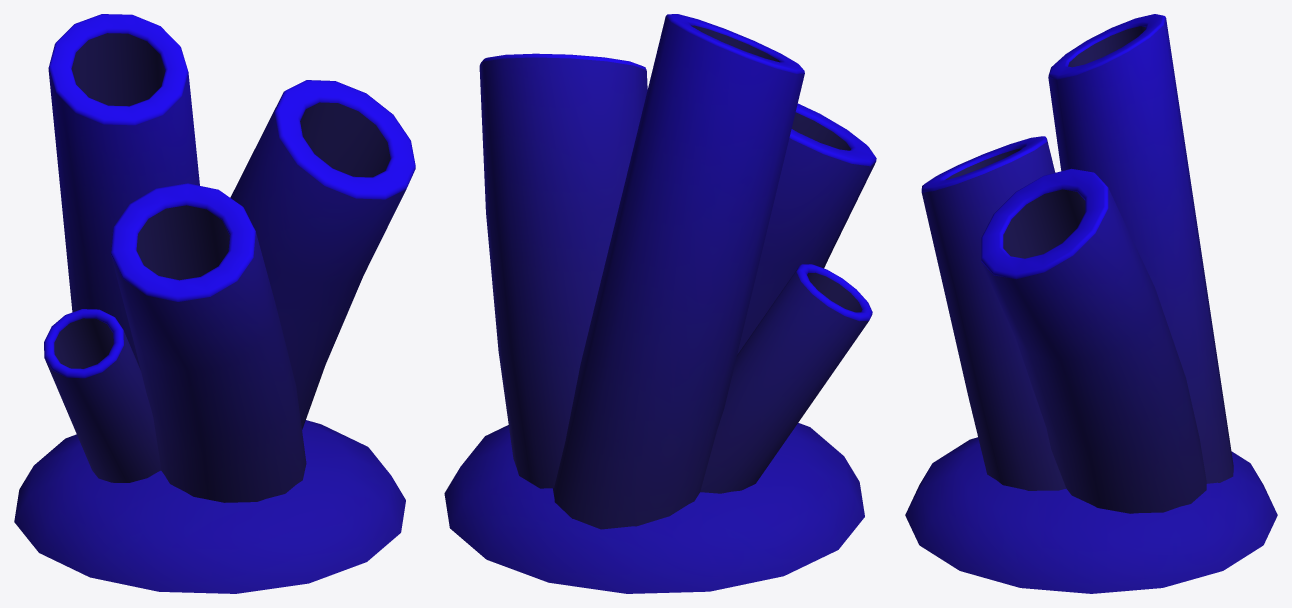
The model's file is M_Moss_3.fbx.
3 renders of one model, left to right at view 1: azimuth 30°, elevation 25°; view 2: azimuth 150°, elevation 25°; view 3: azimuth 270°, elevation 25°, orthographic. The views are drawn at different scales.
Parts seen in each view (by area): view 1: M_moss; view 2: M_moss; view 3: M_moss.
Part boxes in pixels (bbox=[...]): M_moss: bbox=[14, 14, 415, 593]; M_moss: bbox=[444, 14, 876, 593]; M_moss: bbox=[905, 14, 1277, 593].
Bounding box in the file's own units: 355 × 466 × 343.
